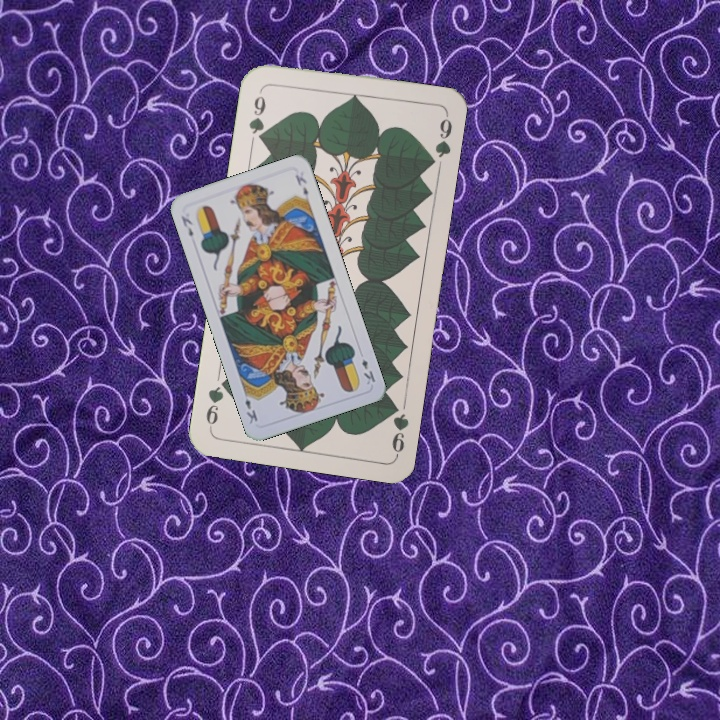EK: (358, 355, 378, 387), (177, 212, 196, 239)
G9: (386, 397, 412, 458), (245, 85, 269, 145)
